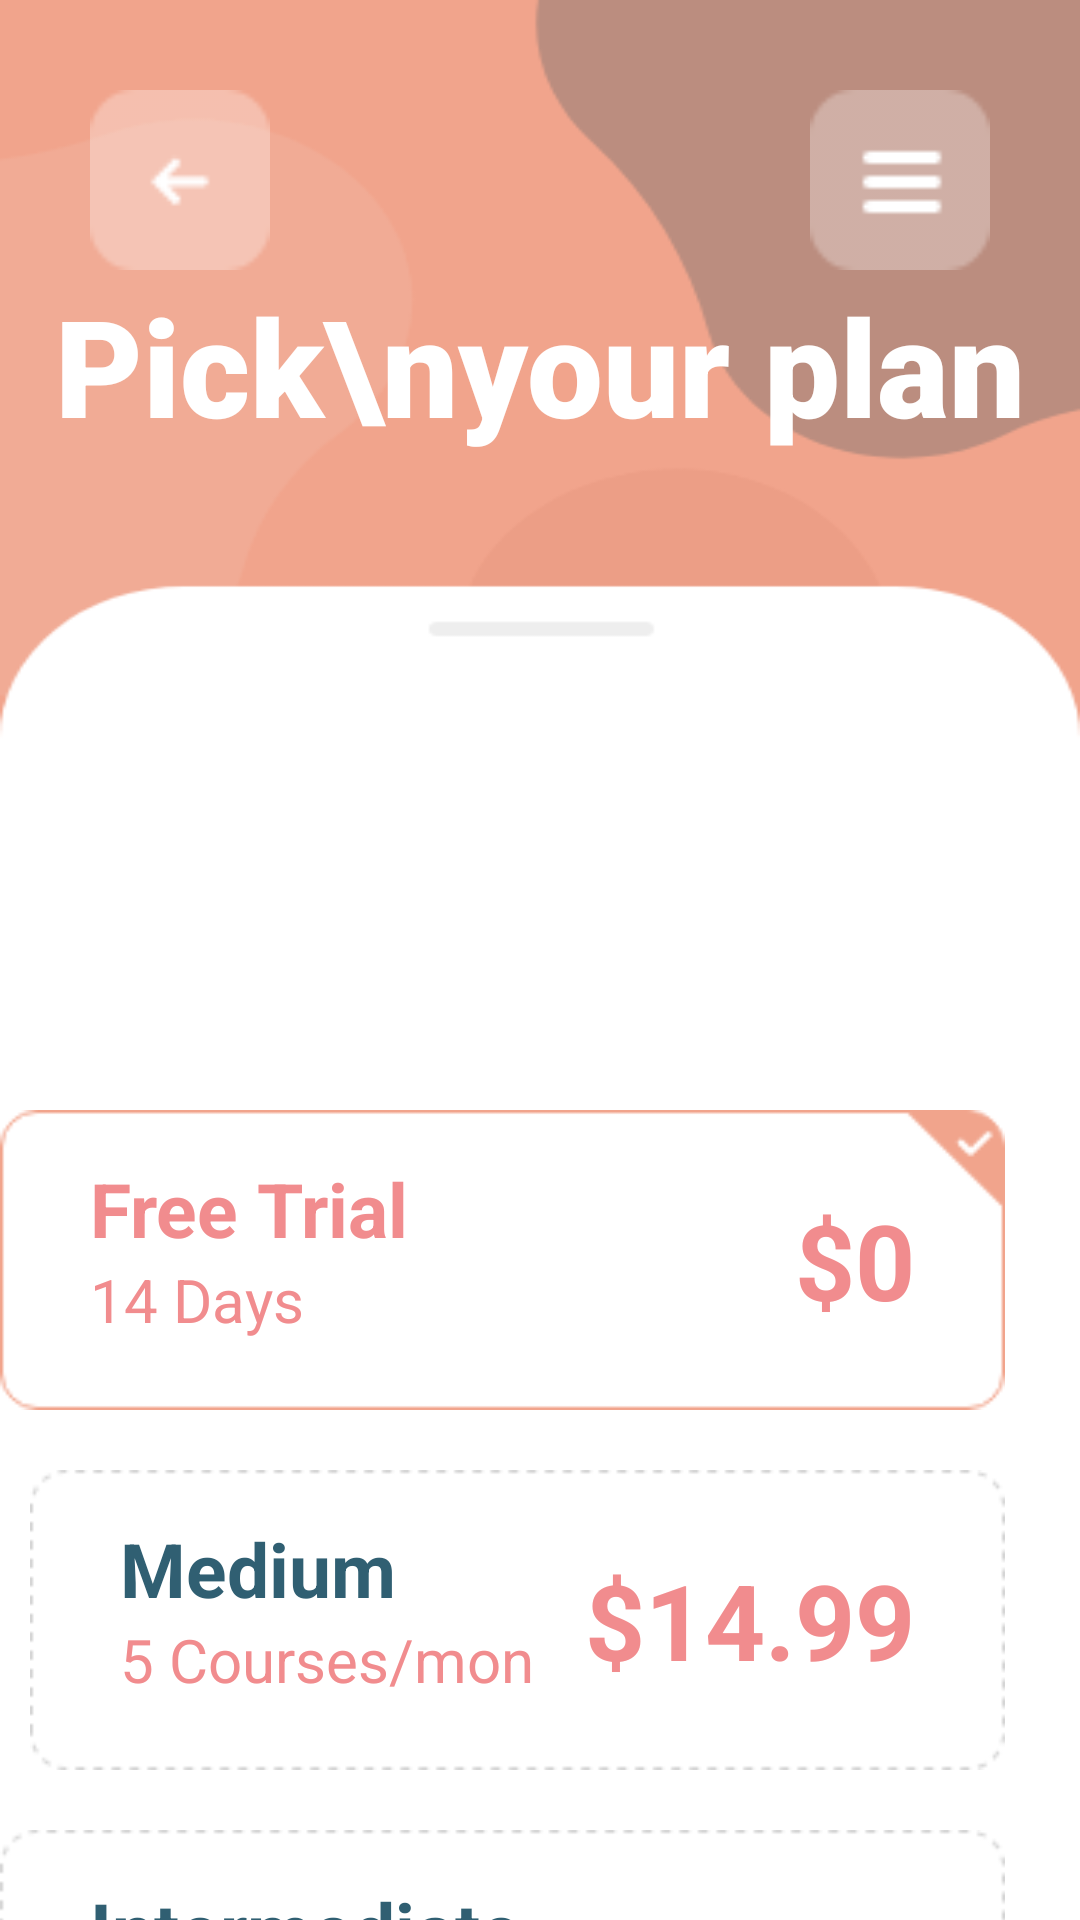

Named icons in this screenshot (1080px×1920px) and their bounding boxes, (left=x1, top=y1, right=x2, bottom=y2):
back: (left=90, top=90, right=270, bottom=270)
menu: (left=810, top=90, right=990, bottom=270)
